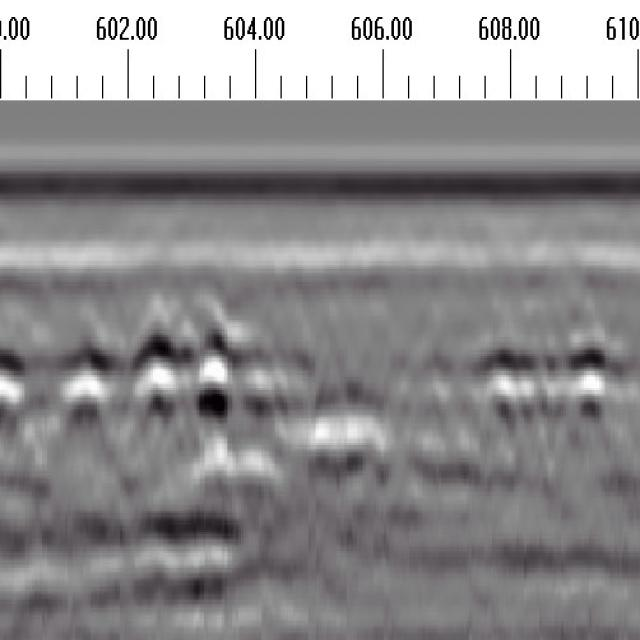loose: (65, 316, 292, 437), (479, 319, 628, 433)
